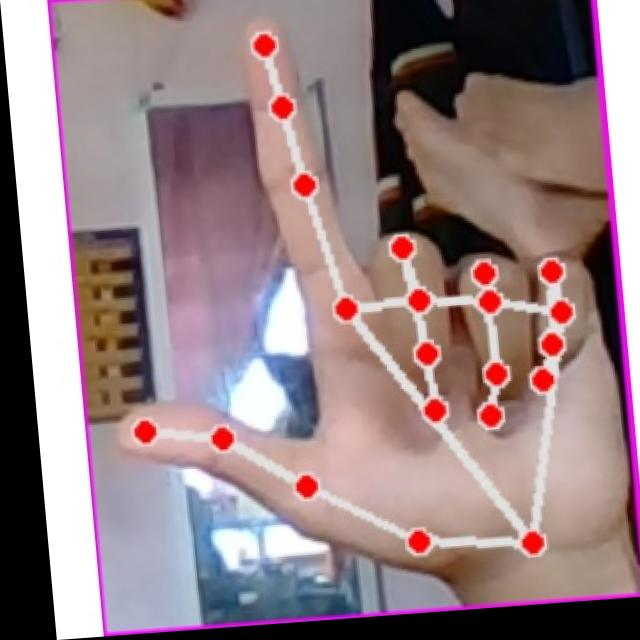L: (72, 0, 614, 592)
